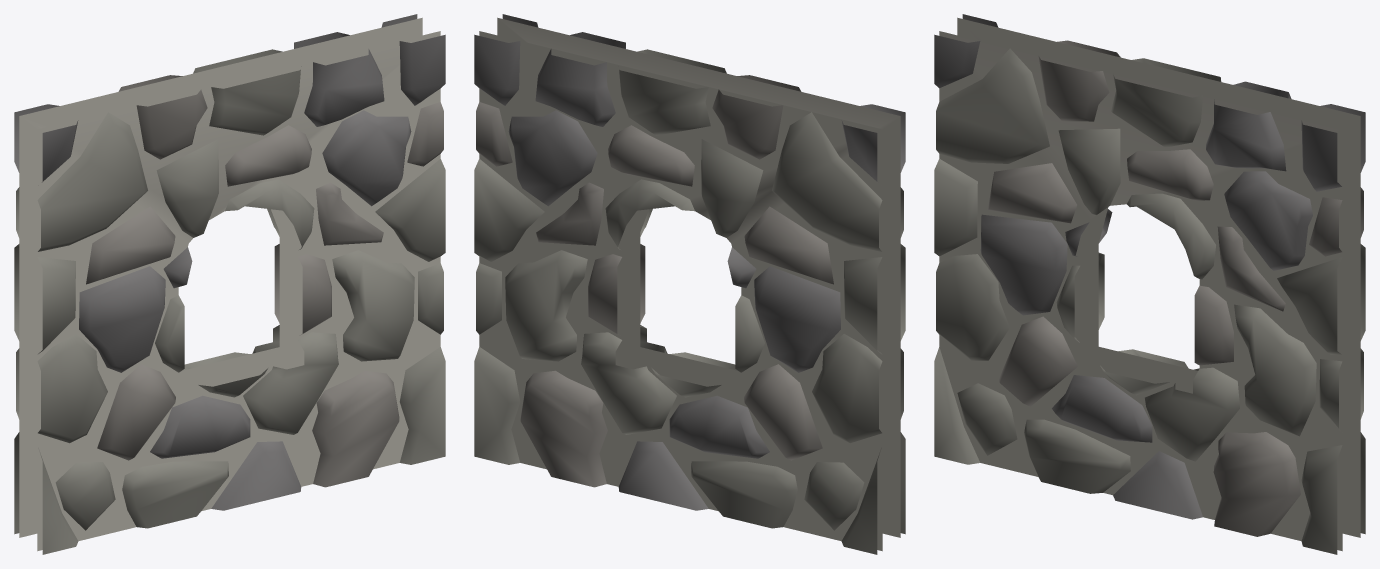
Rendered from rpgpp_ag_wall_04_3x3_window_03a.fbx.
The picture shows the model from 3 angles, left to right: view 1: azimuth 30°, elevation 25°; view 2: azimuth 150°, elevation 25°; view 3: azimuth 330°, elevation 25°; orthographic projection.
Visible parts, largest first — view 1: rpgpp_ag_wall_04_3x3_window_03a; view 2: rpgpp_ag_wall_04_3x3_window_03a; view 3: rpgpp_ag_wall_04_3x3_window_03a.
Boxes of the visible parts, left/top/right/bottom form: rpgpp_ag_wall_04_3x3_window_03a: left=14, top=14, right=445, bottom=554; rpgpp_ag_wall_04_3x3_window_03a: left=474, top=14, right=905, bottom=554; rpgpp_ag_wall_04_3x3_window_03a: left=934, top=14, right=1365, bottom=554.
Bounding box in the file's own units: 3 × 3 × 0.404.
